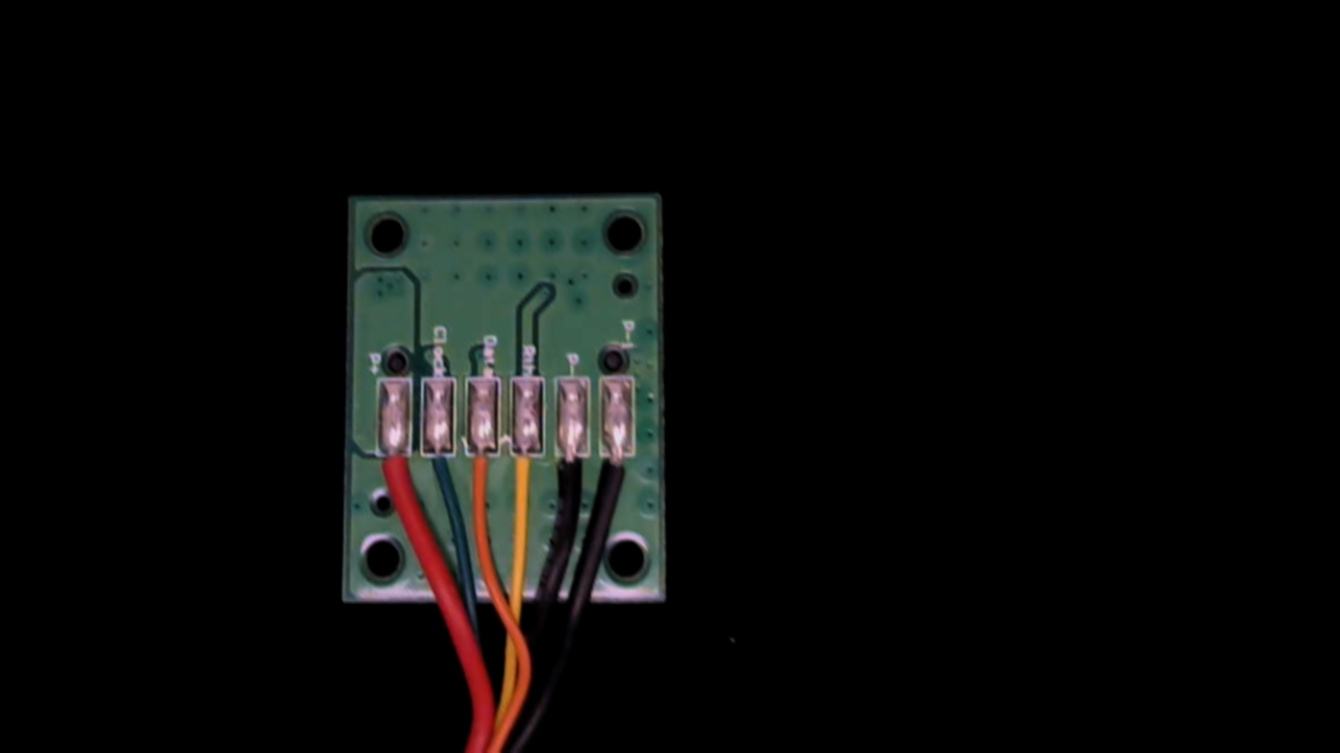Black: (553, 434, 591, 507)
Black1: (600, 433, 635, 509)
Green: (417, 434, 456, 505)
Orange: (462, 434, 499, 517)
Red: (376, 431, 413, 514)
Yellow: (509, 436, 546, 513)
